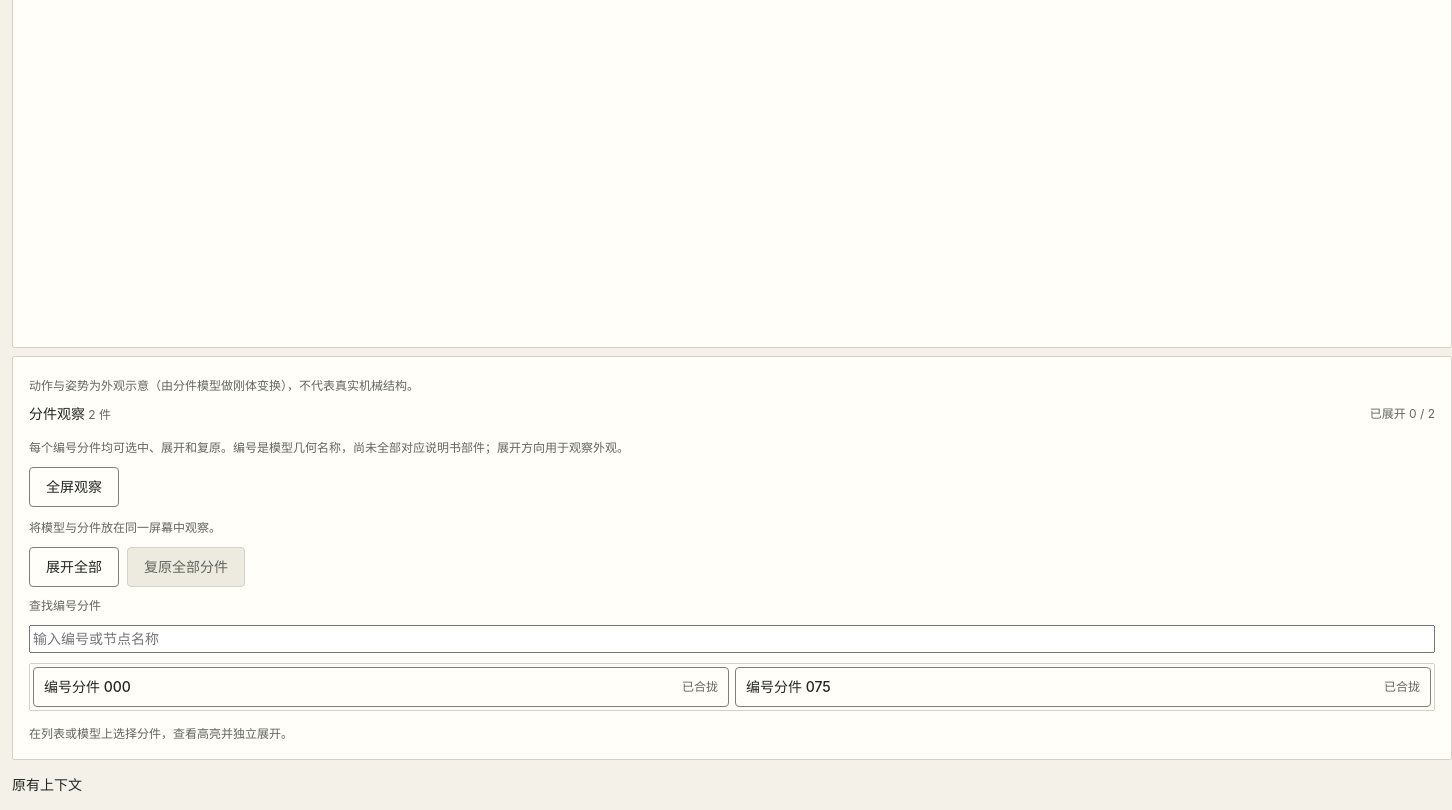
Test: 分件全屏观察 › Escape按键退出后更新按钮和焦点，筛选状态不丢失
(page scrolled)
Type "075" into the search field labelled "查找编号分件".
click(732, 639); type("075")  # box [29,625,1435,653]
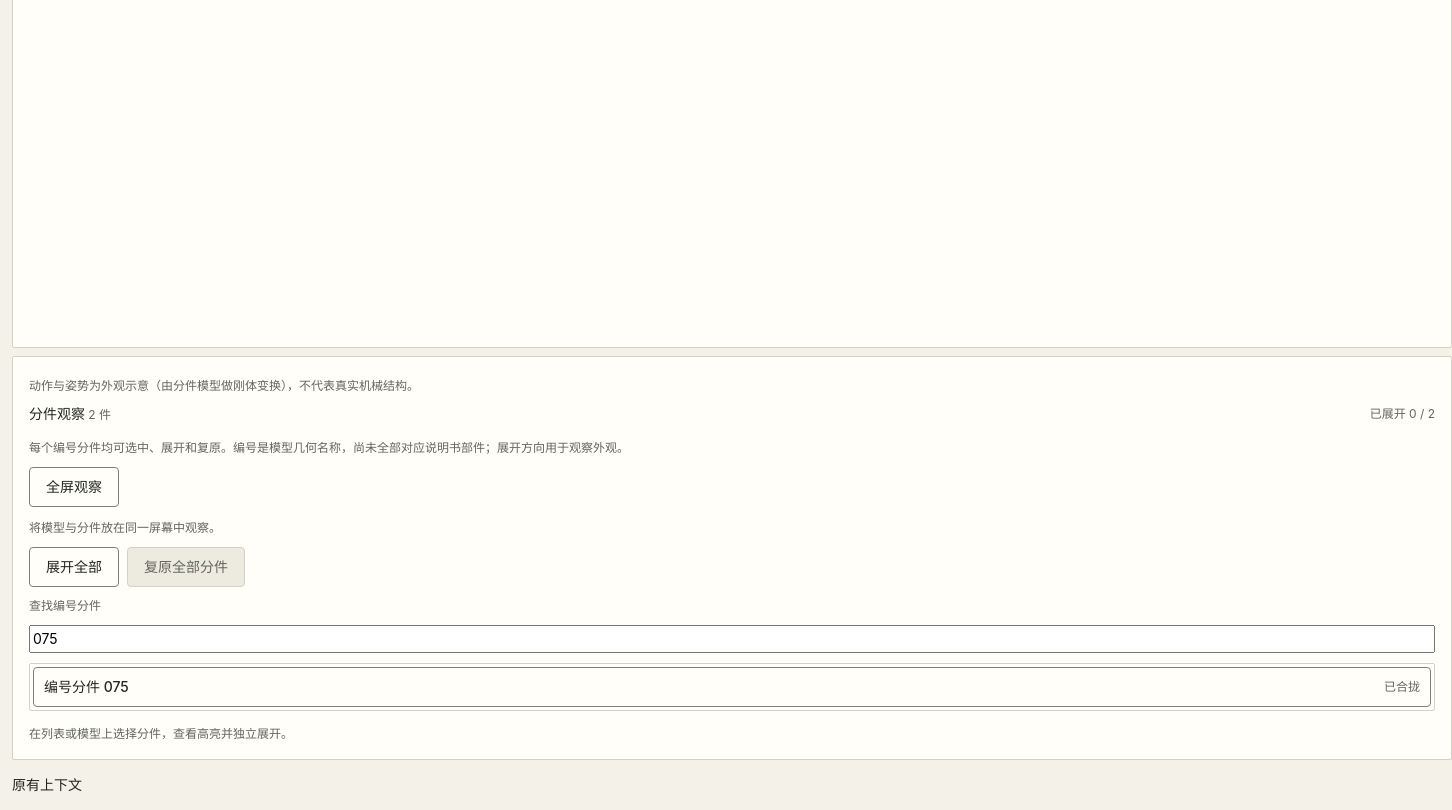
Click the button with test id "parts-fullscreen".
click(74, 487)  # box [29,467,119,507]
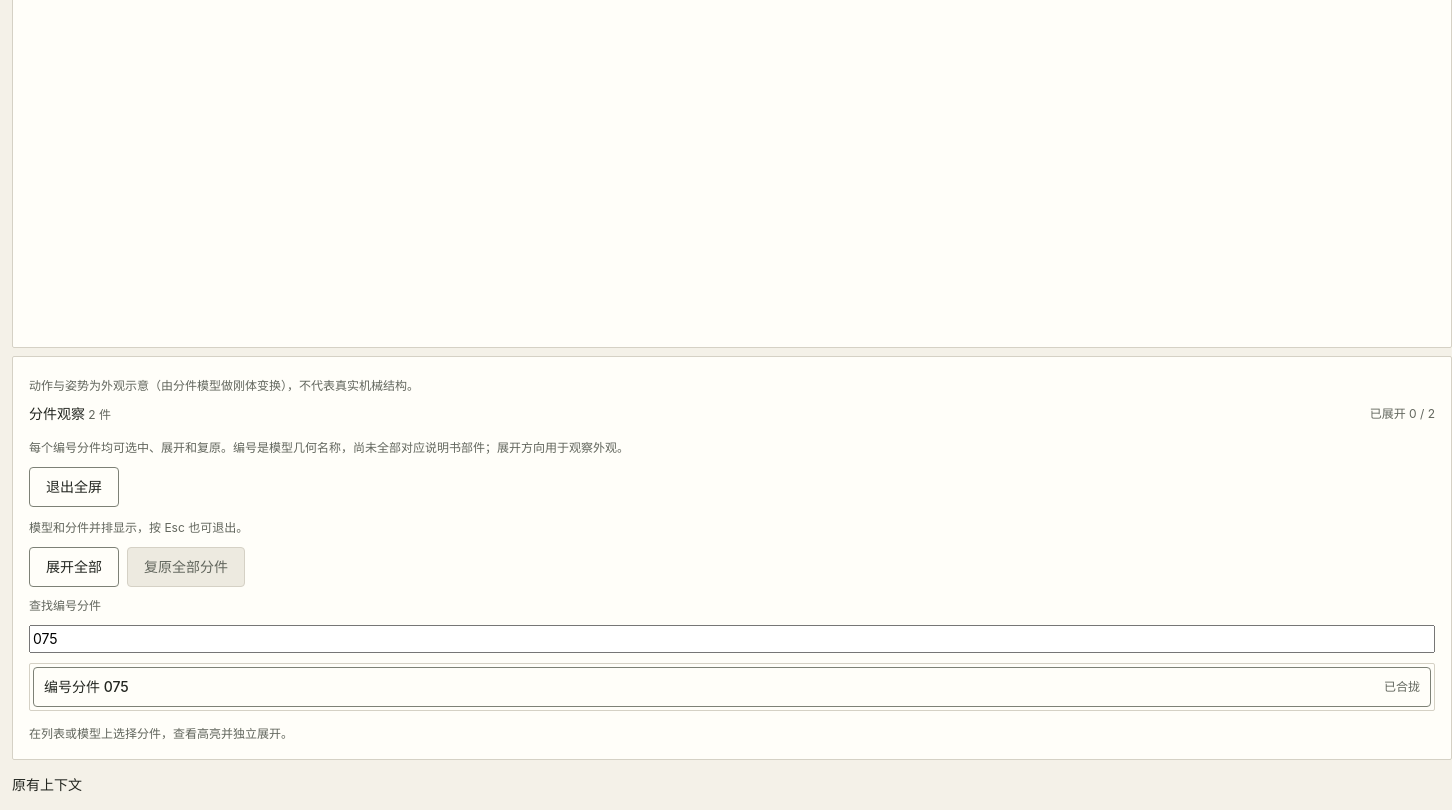
Result: the button with test id "parts-fullscreen" reads "退出全屏" at [29,467,119,507]
Result: the text "模型和分件并排显示，按 Esc 也可退出。" is shown at [29,520,248,535]
Press Escape
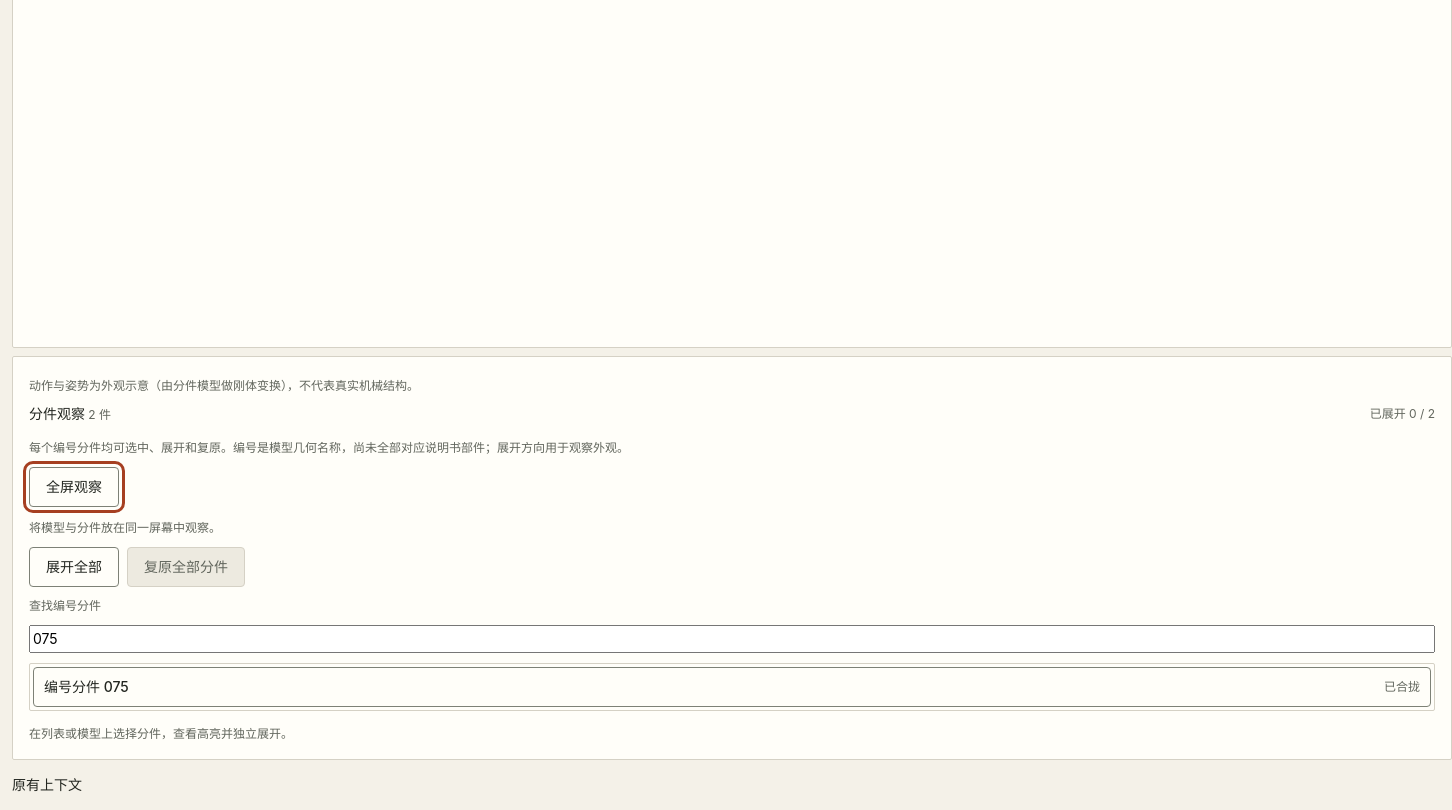
Result: the button with test id "parts-fullscreen" reads "全屏观察" at [29,467,119,507]
